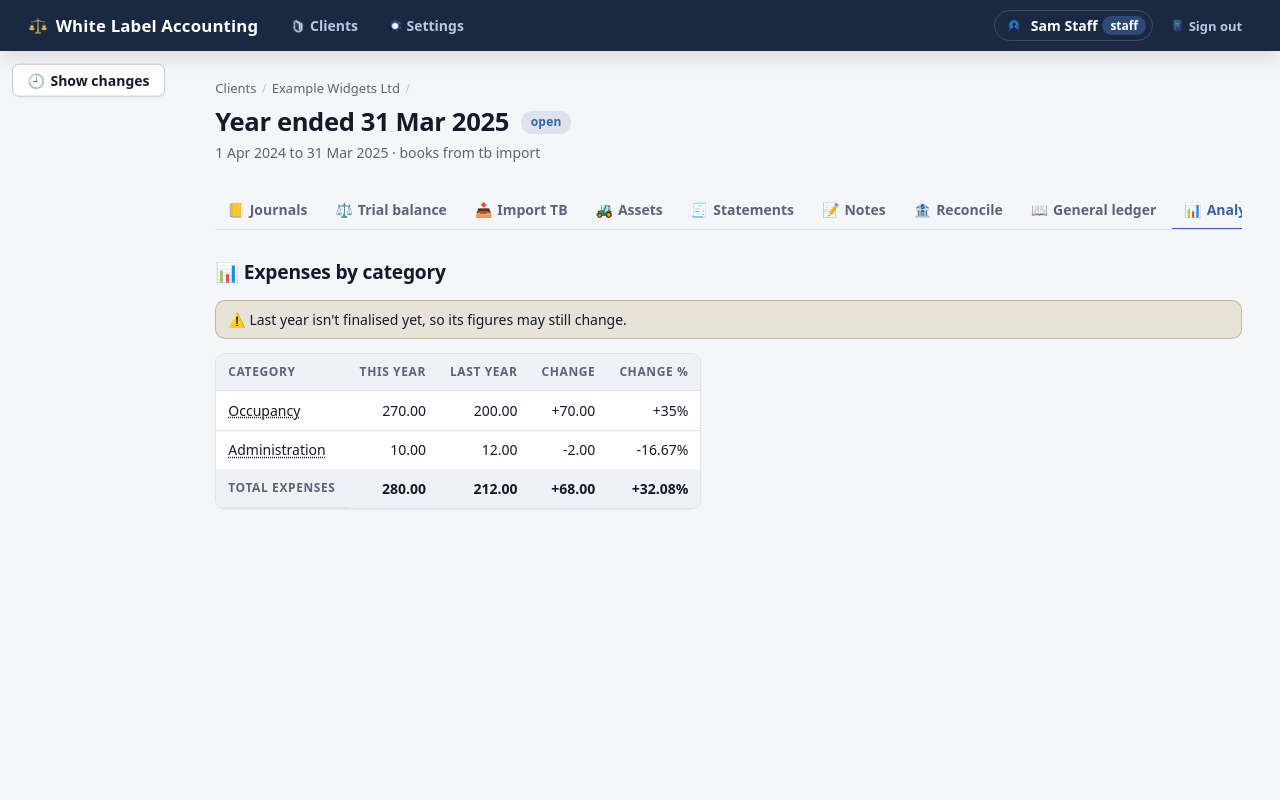
expense analysis › shows each category this year against last, in dollars and percent
Check: the row "Occupancy" shows "270.00", box [382, 401, 426, 420]
Check: the row "Occupancy" shows "200.00", box [474, 401, 518, 420]
Click the button "Occupancy".
click(264, 410)  # box [228, 400, 300, 421]
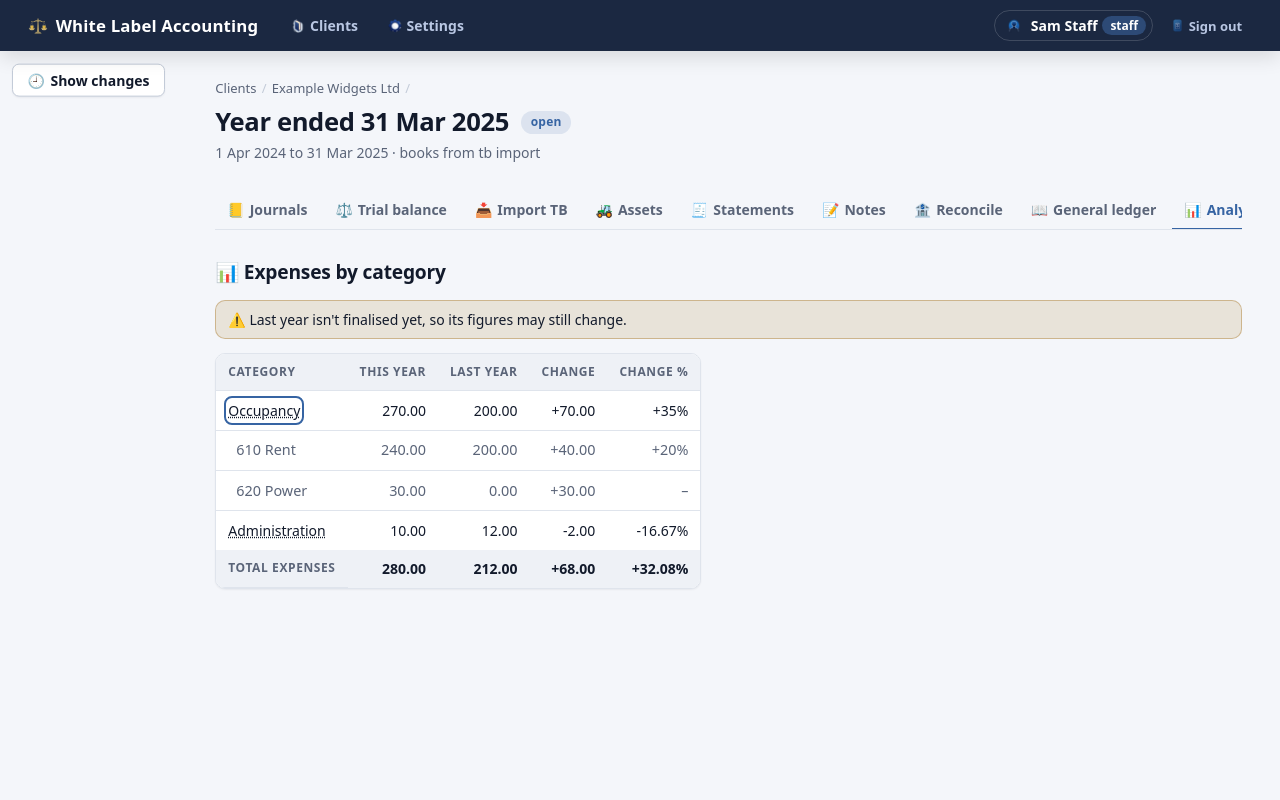
Check: the text "610 Rent" shows "+20%", box [652, 440, 688, 459]
